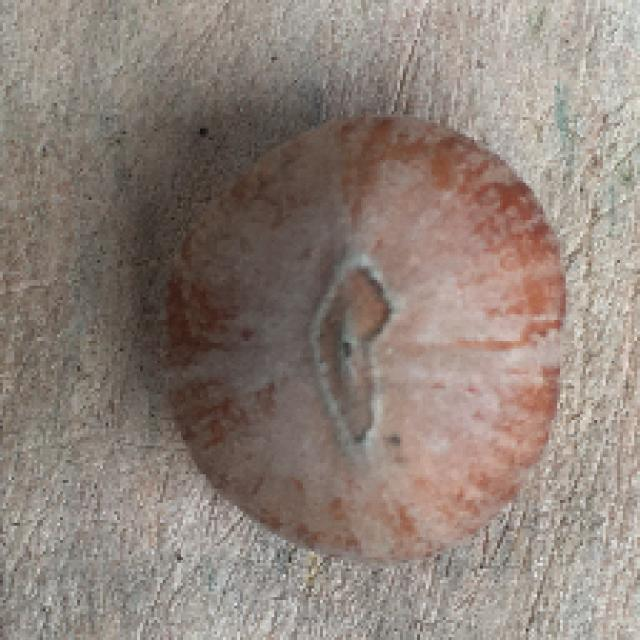qualityHazelnut: (159, 107, 570, 563)
